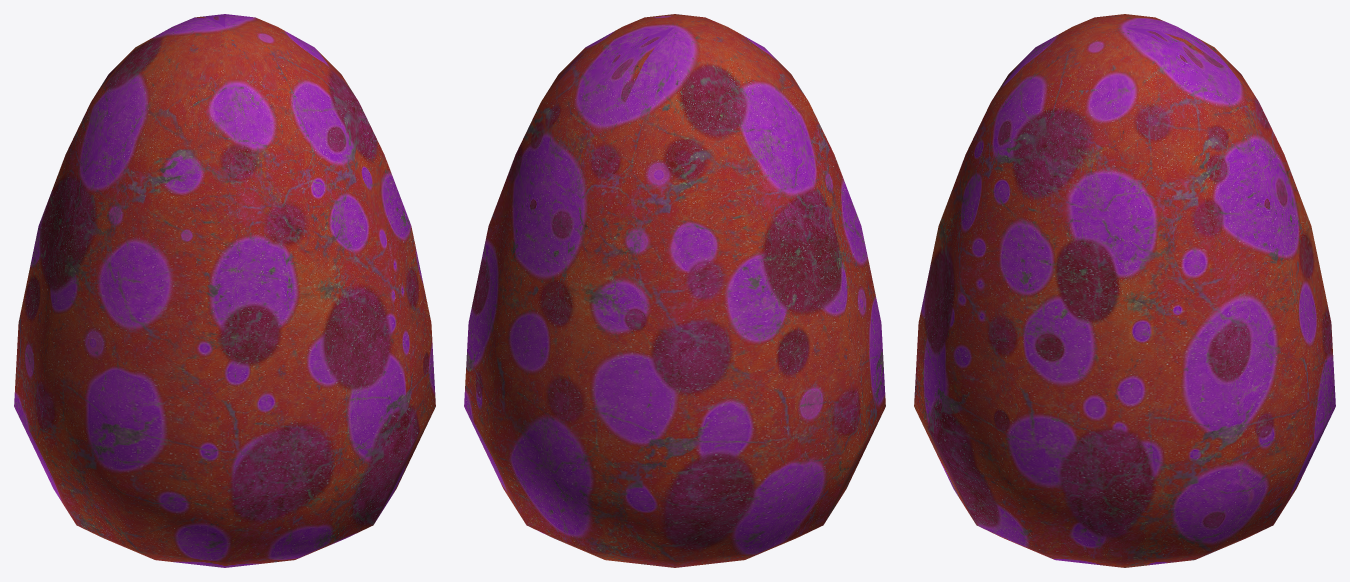
Rendered from egg_intact_uv.FBX.
3 renders of one model, left to right at view 1: azimuth 30°, elevation 25°; view 2: azimuth 150°, elevation 25°; view 3: azimuth 270°, elevation 25°, orthographic.
Parts seen in each view (by area): view 1: Capsule001; view 2: Capsule001; view 3: Capsule001.
Boxes of the visible parts, x1=… form: Capsule001: x1=14, y1=14, x2=435, y2=567; Capsule001: x1=464, y1=14, x2=885, y2=567; Capsule001: x1=914, y1=14, x2=1335, y2=567.
Bounding box in the file's own units: 1686 × 2247 × 1686.
Materials: 1 (1 with a texture image).
